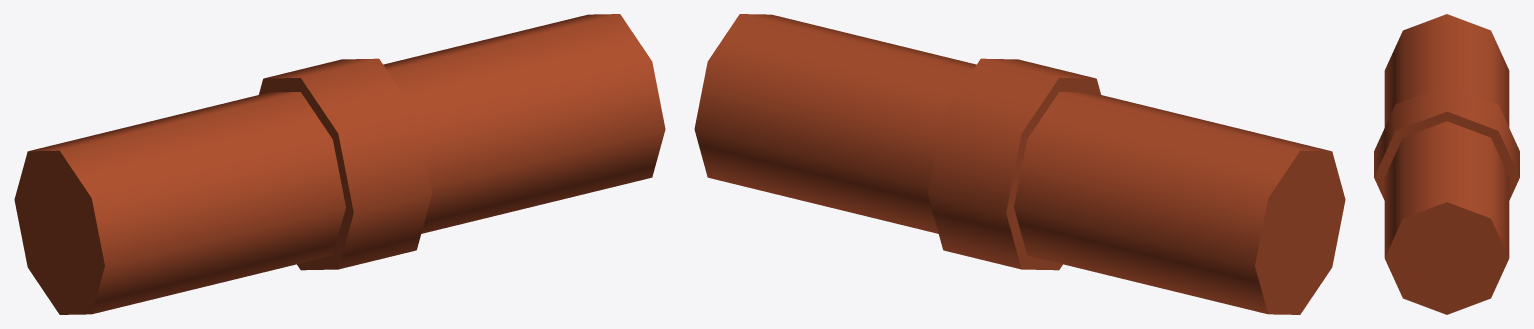
File: telhado_cumeeira_0_5m.glb
3 renders of one model, left to right at view 1: azimuth 30°, elevation 25°; view 2: azimuth 150°, elevation 25°; view 3: azimuth 270°, elevation 25°, orthographic. The views are drawn at different scales.
Visible parts, largest first — view 1: telhado_cumeeira_0_5m; view 2: telhado_cumeeira_0_5m; view 3: telhado_cumeeira_0_5m.
Boxes of the visible parts, bbox=[...] form: telhado_cumeeira_0_5m: bbox=[14, 14, 665, 314]; telhado_cumeeira_0_5m: bbox=[694, 14, 1345, 314]; telhado_cumeeira_0_5m: bbox=[1374, 14, 1519, 314].
Bounding box in the file's own units: 0.5 × 0.164 × 0.164.
